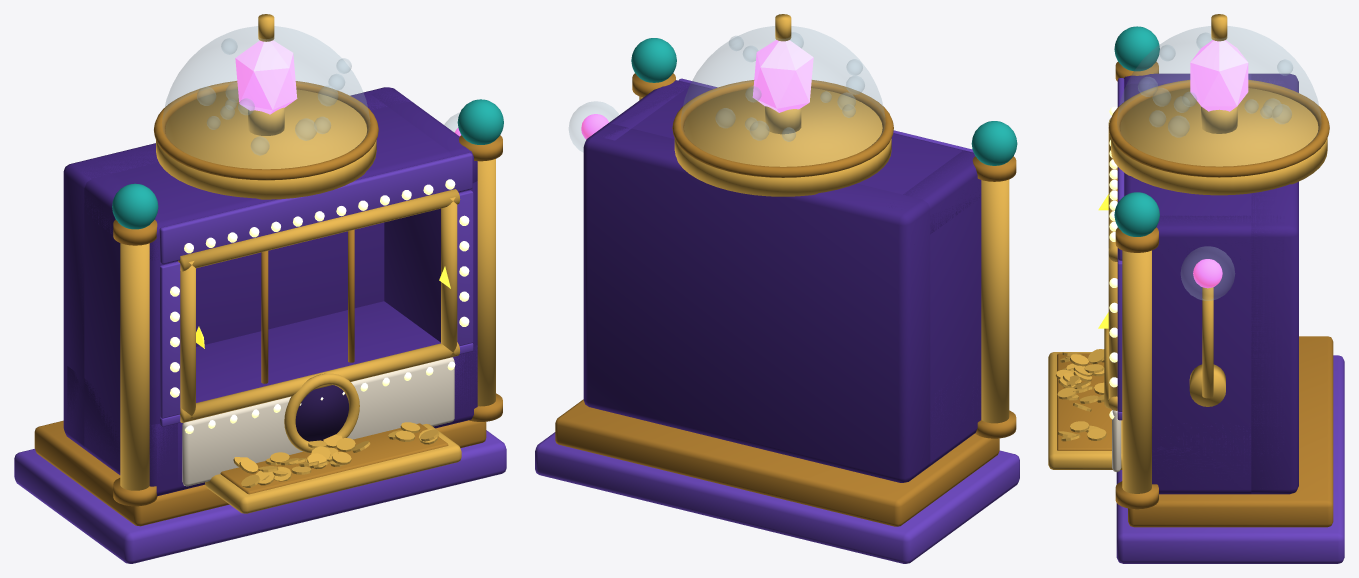
Rendered from mecanism.glb.
3 renders of one model, left to right at view 1: azimuth 30°, elevation 25°; view 2: azimuth 150°, elevation 25°; view 3: azimuth 270°, elevation 25°, orthographic.
Visible parts, largest first — view 1: MasinaCorp, Roata0_Plasa, Roata1_Plasa, Roata2_Plasa; view 2: MasinaCorp, Maneta_Plasa, Roata2_Plasa, Roata0_Plasa, Roata1_Plasa; view 3: MasinaCorp, Maneta_Plasa, Roata1_Plasa, Roata2_Plasa, Roata0_Plasa.
Part boxes in pixels (left/top/right/bottom): MasinaCorp: left=14, top=14, right=506, bottom=563; Roata0_Plasa: left=197, top=82, right=316, bottom=140; Roata1_Plasa: left=220, top=38, right=351, bottom=133; Roata2_Plasa: left=238, top=74, right=344, bottom=155; MasinaCorp: left=535, top=14, right=1019, bottom=563; Maneta_Plasa: left=569, top=101, right=618, bottom=151; Roata2_Plasa: left=715, top=46, right=862, bottom=129; Roata0_Plasa: left=750, top=76, right=864, bottom=140; Roata1_Plasa: left=729, top=32, right=803, bottom=141; MasinaCorp: left=1048, top=14, right=1344, bottom=563; Maneta_Plasa: left=1181, top=246, right=1234, bottom=398; Roata1_Plasa: left=1138, top=59, right=1292, bottom=126; Roata2_Plasa: left=1153, top=45, right=1291, bottom=123; Roata0_Plasa: left=1168, top=33, right=1280, bottom=137.
Size of the model in its own units: 4.11 by 4.43 by 2.6.
